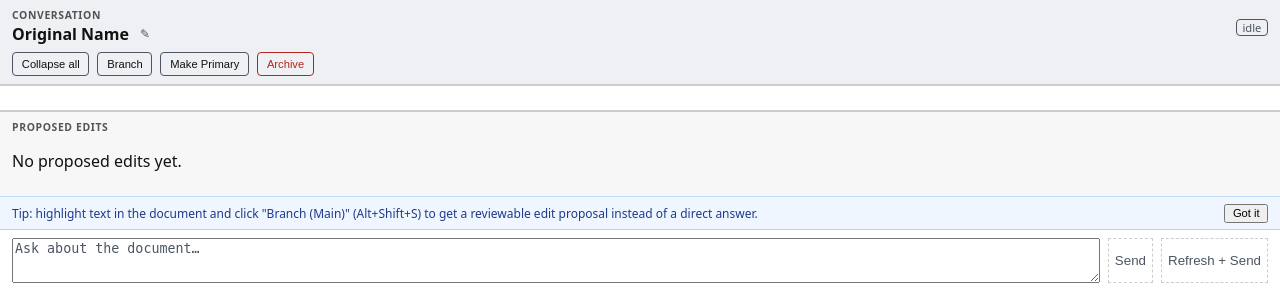
Test: ConversationView — rename UI › clicking the rename button opens an input pre-filled with the current name
This screenshot has width=1280, height=304.
Click the button with class "thread-rename-button": click(145, 34) [133,22,157,46]
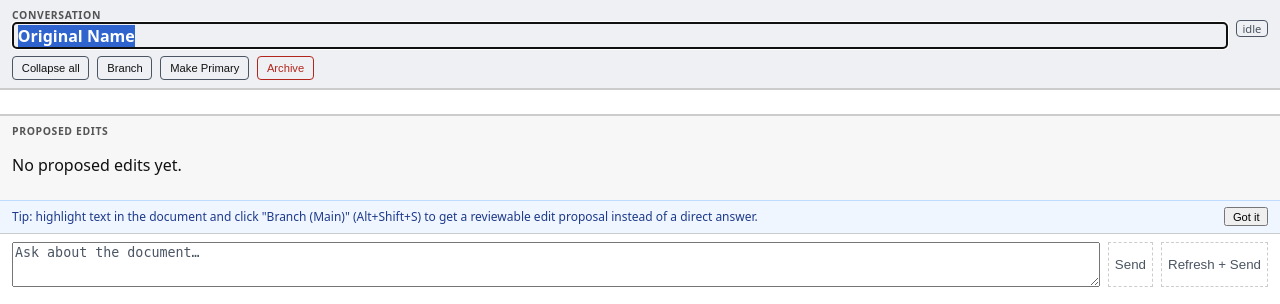
Expected: the field with class "thread-title-input" holds "Original Name", [12,22,1228,49]
